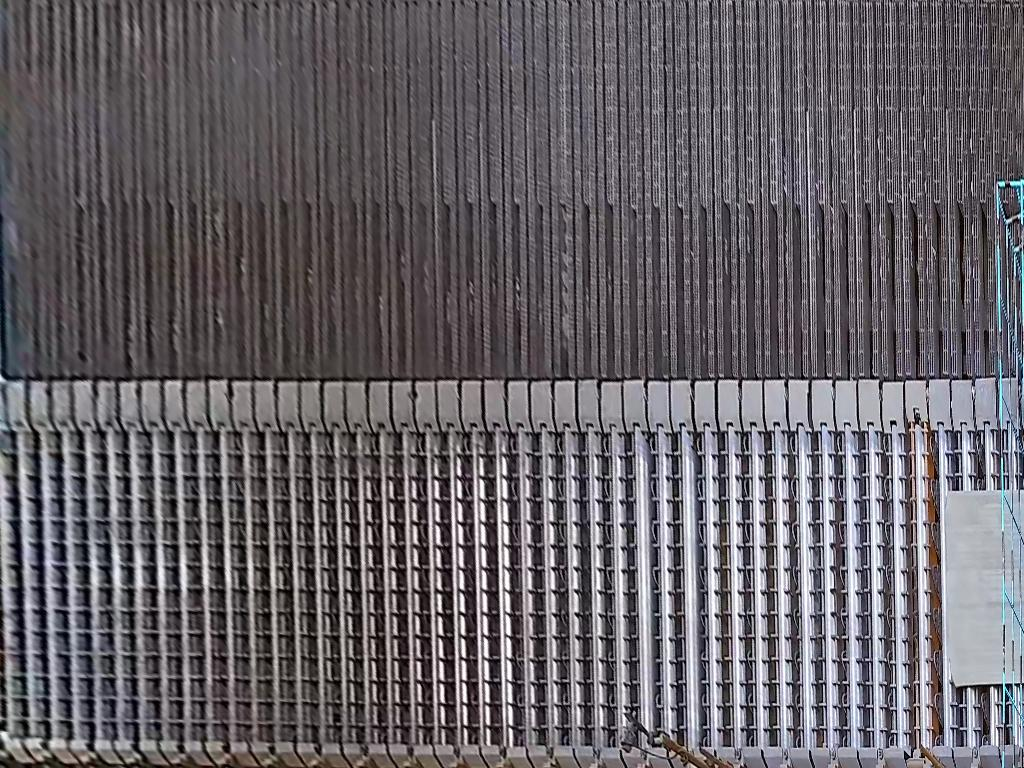steel: (941, 488, 1024, 688)
